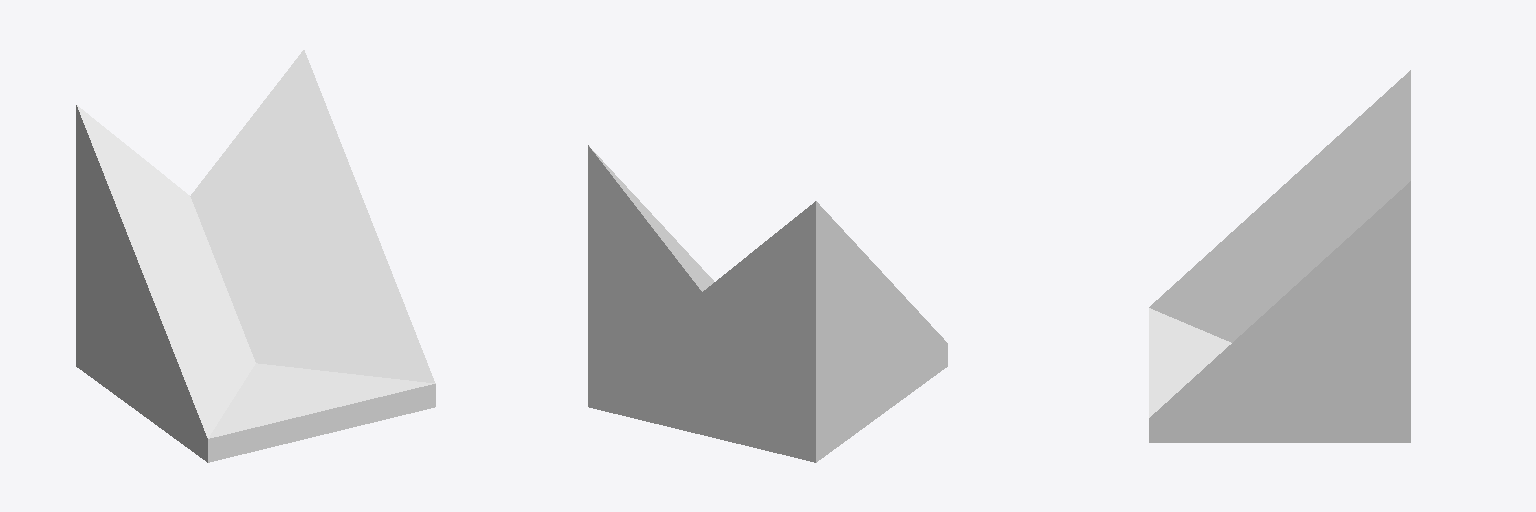
3 views of the same model, side by side, from view 1: azimuth 30°, elevation 25°; view 2: azimuth 150°, elevation 25°; view 3: azimuth 270°, elevation 25° (orthographic).
Parts seen in each view (by area): view 1: cube2; view 2: cube2; view 3: cube2.
Boxes of the visible parts, x1=… form: cube2: x1=76, y1=50, x2=435, y2=462; cube2: x1=588, y1=145, x2=947, y2=462; cube2: x1=1149, y1=70, x2=1410, y2=442.
Size of the model in its own units: 1 by 1.1 by 1.